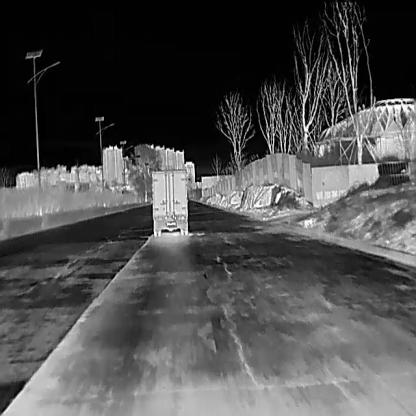truck: (151, 168, 188, 236)
